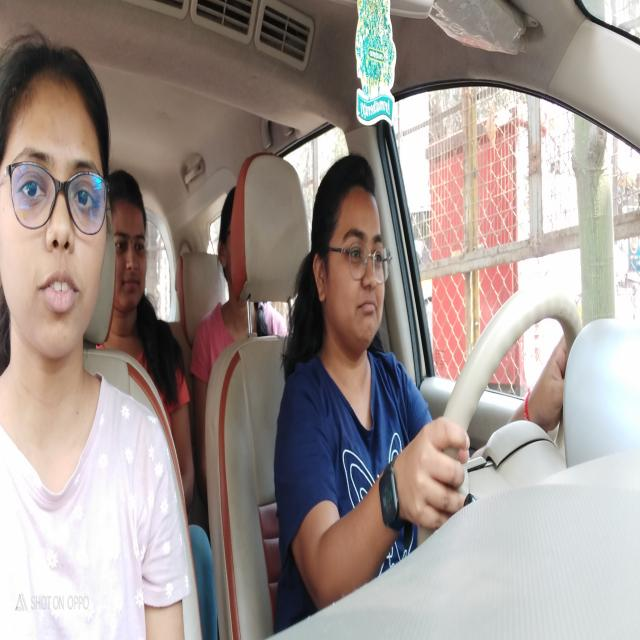person: (0, 22, 113, 380), (305, 155, 390, 376), (110, 167, 150, 317), (218, 186, 233, 286)
